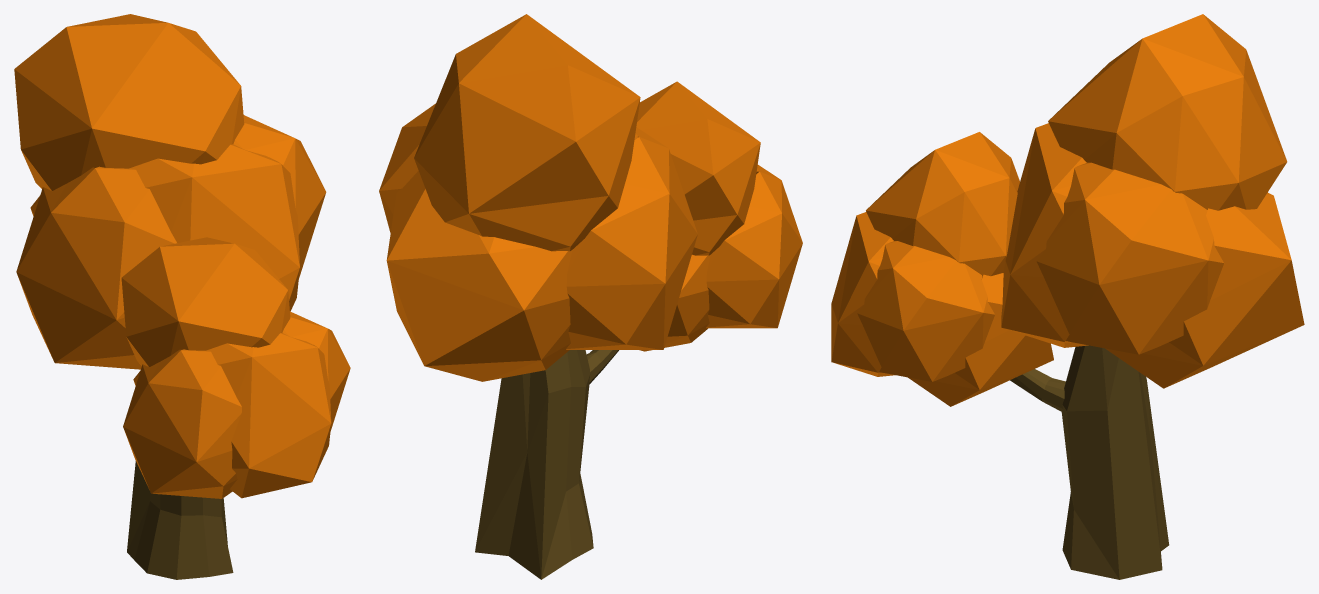
The model's file is Tree#4.fbx.
3 views of the same model, side by side, from view 1: azimuth 30°, elevation 25°; view 2: azimuth 150°, elevation 25°; view 3: azimuth 270°, elevation 25° (orthographic). The views are drawn at different scales.
Parts seen in each view (by area): view 1: Tree#4; view 2: Tree#4; view 3: Tree#4.
Part boxes in pixels (<box>): Tree#4: <box>14,14,350,579</box>; Tree#4: <box>379,14,802,579</box>; Tree#4: <box>831,14,1304,579</box>.
Size of the model in its own units: 526 by 953 by 786.
